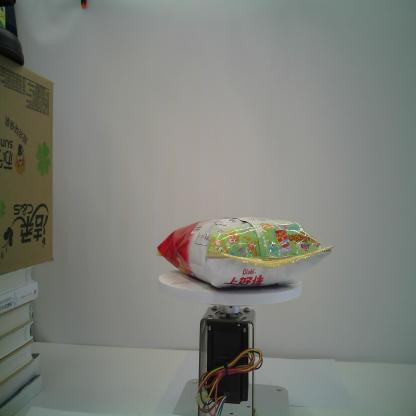Puffed Food: (154, 216, 336, 291)
